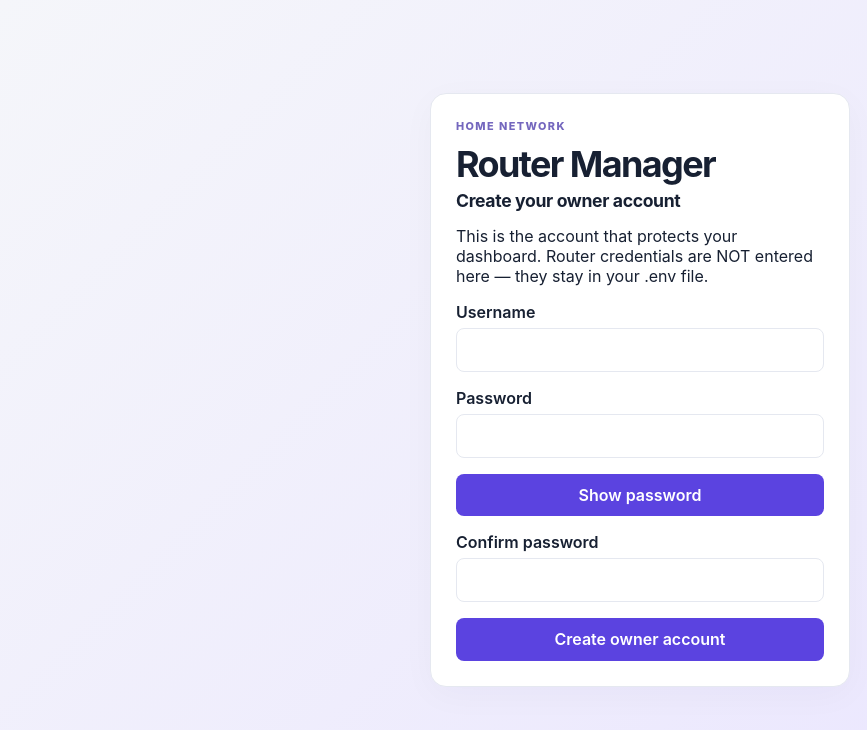
Test: first-run owner form › enforces minimum ten characters without submitting
Type "owner" into the field labelled "Username".
click(640, 350); type("owner")  # box [456, 328, 824, 372]
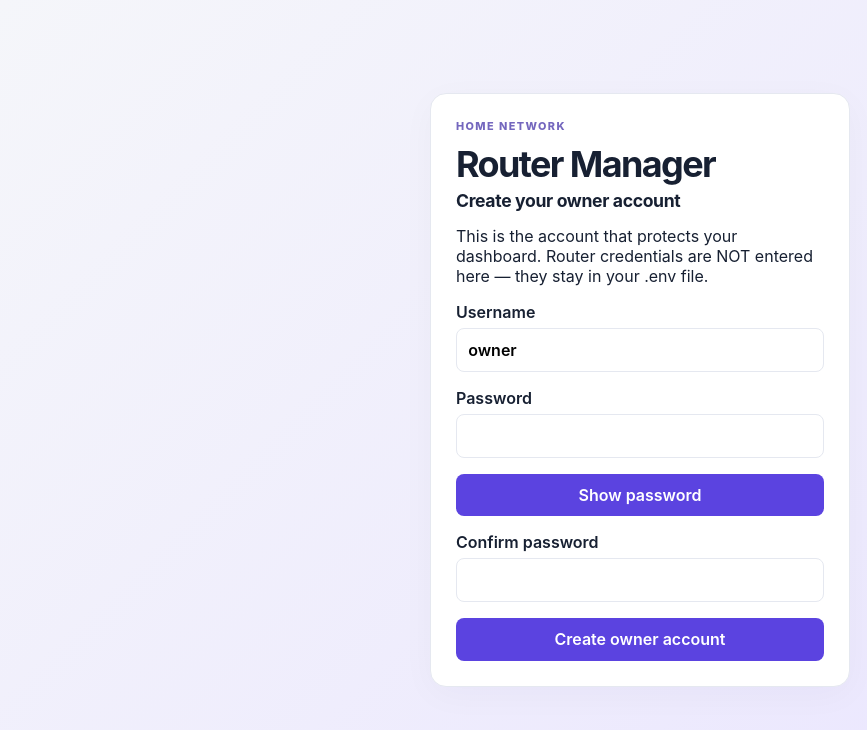
Type "shortpass" into the password field labelled "Password".
click(640, 436); type("shortpass")  # box [456, 414, 824, 458]
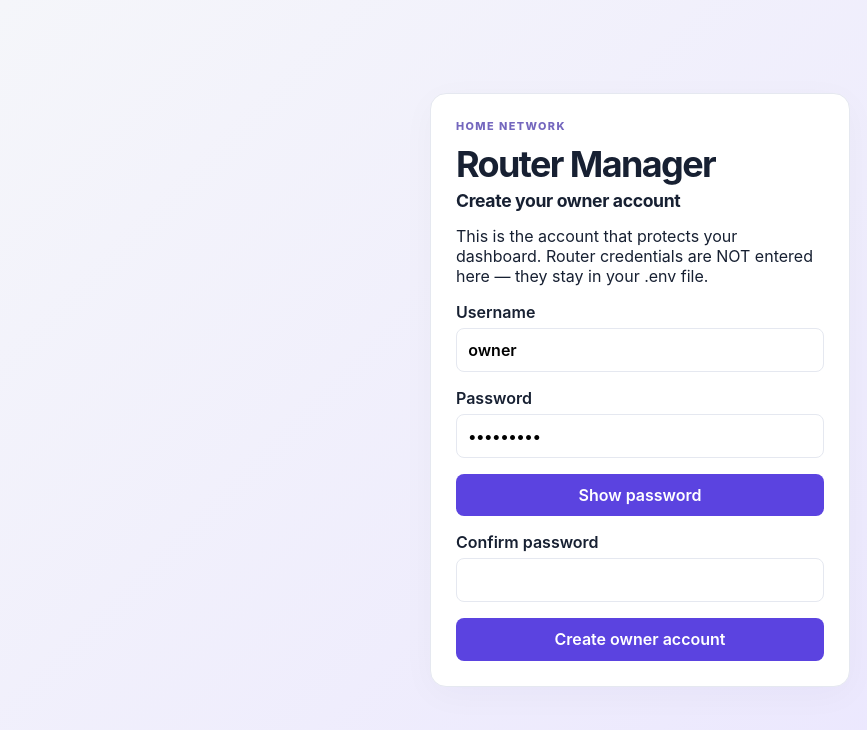
Type "shortpass" into the password field labelled "Confirm password".
click(640, 580); type("shortpass")  # box [456, 558, 824, 602]
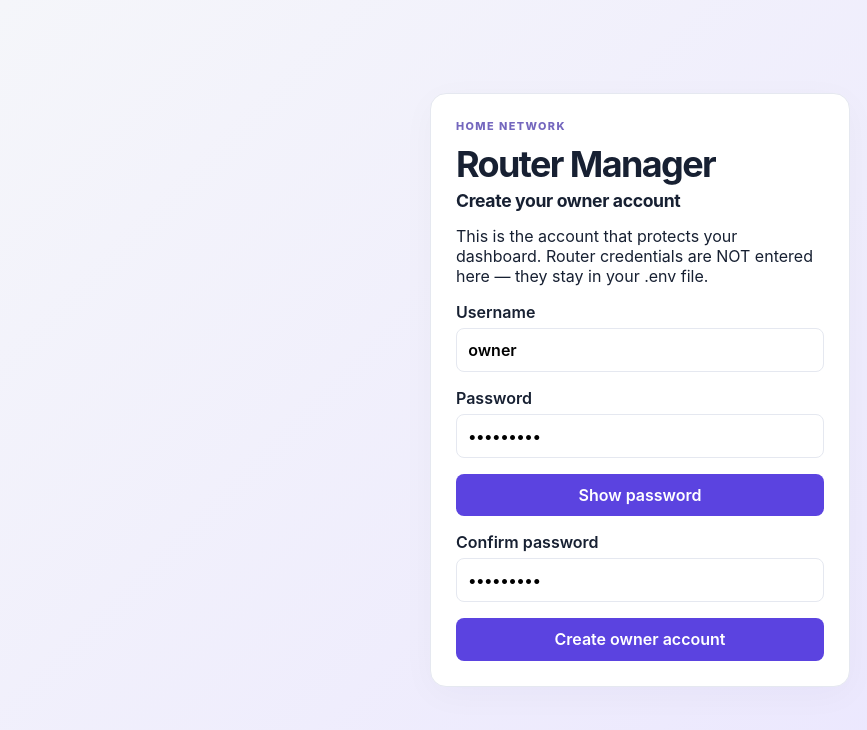
Click the button "Create owner account".
click(640, 640)  # box [456, 618, 824, 661]
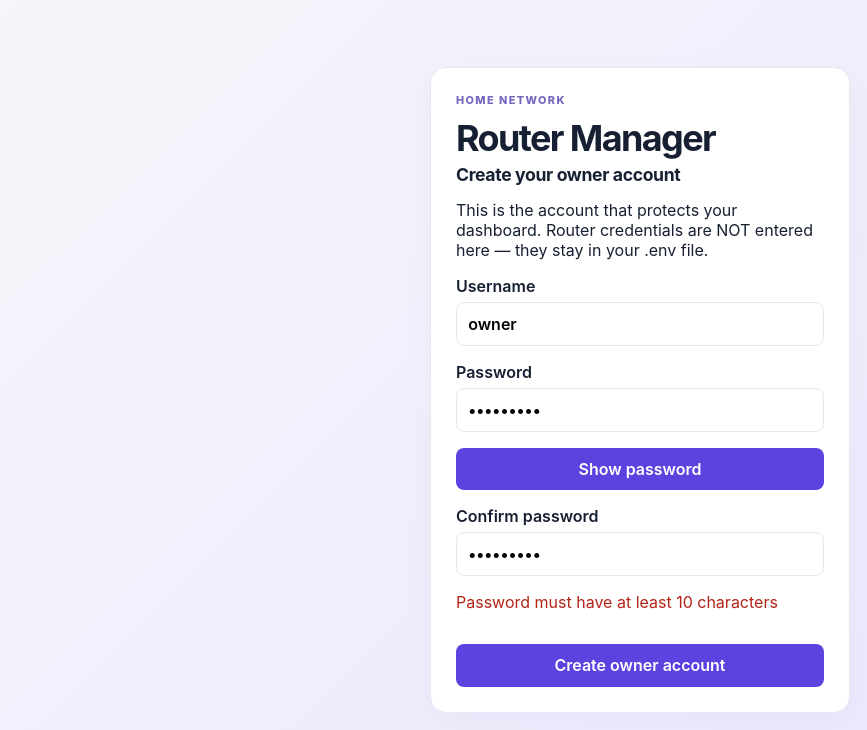
Expected: the message shows "at least 10", [456, 592, 778, 612]
